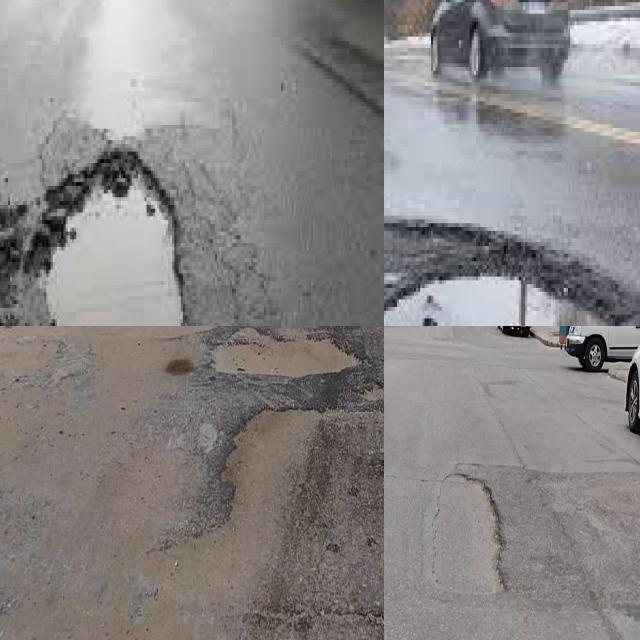Pothole: (150, 407, 340, 587), (44, 155, 185, 326), (384, 277, 602, 326), (432, 467, 508, 599), (212, 326, 354, 381), (359, 385, 384, 404)
